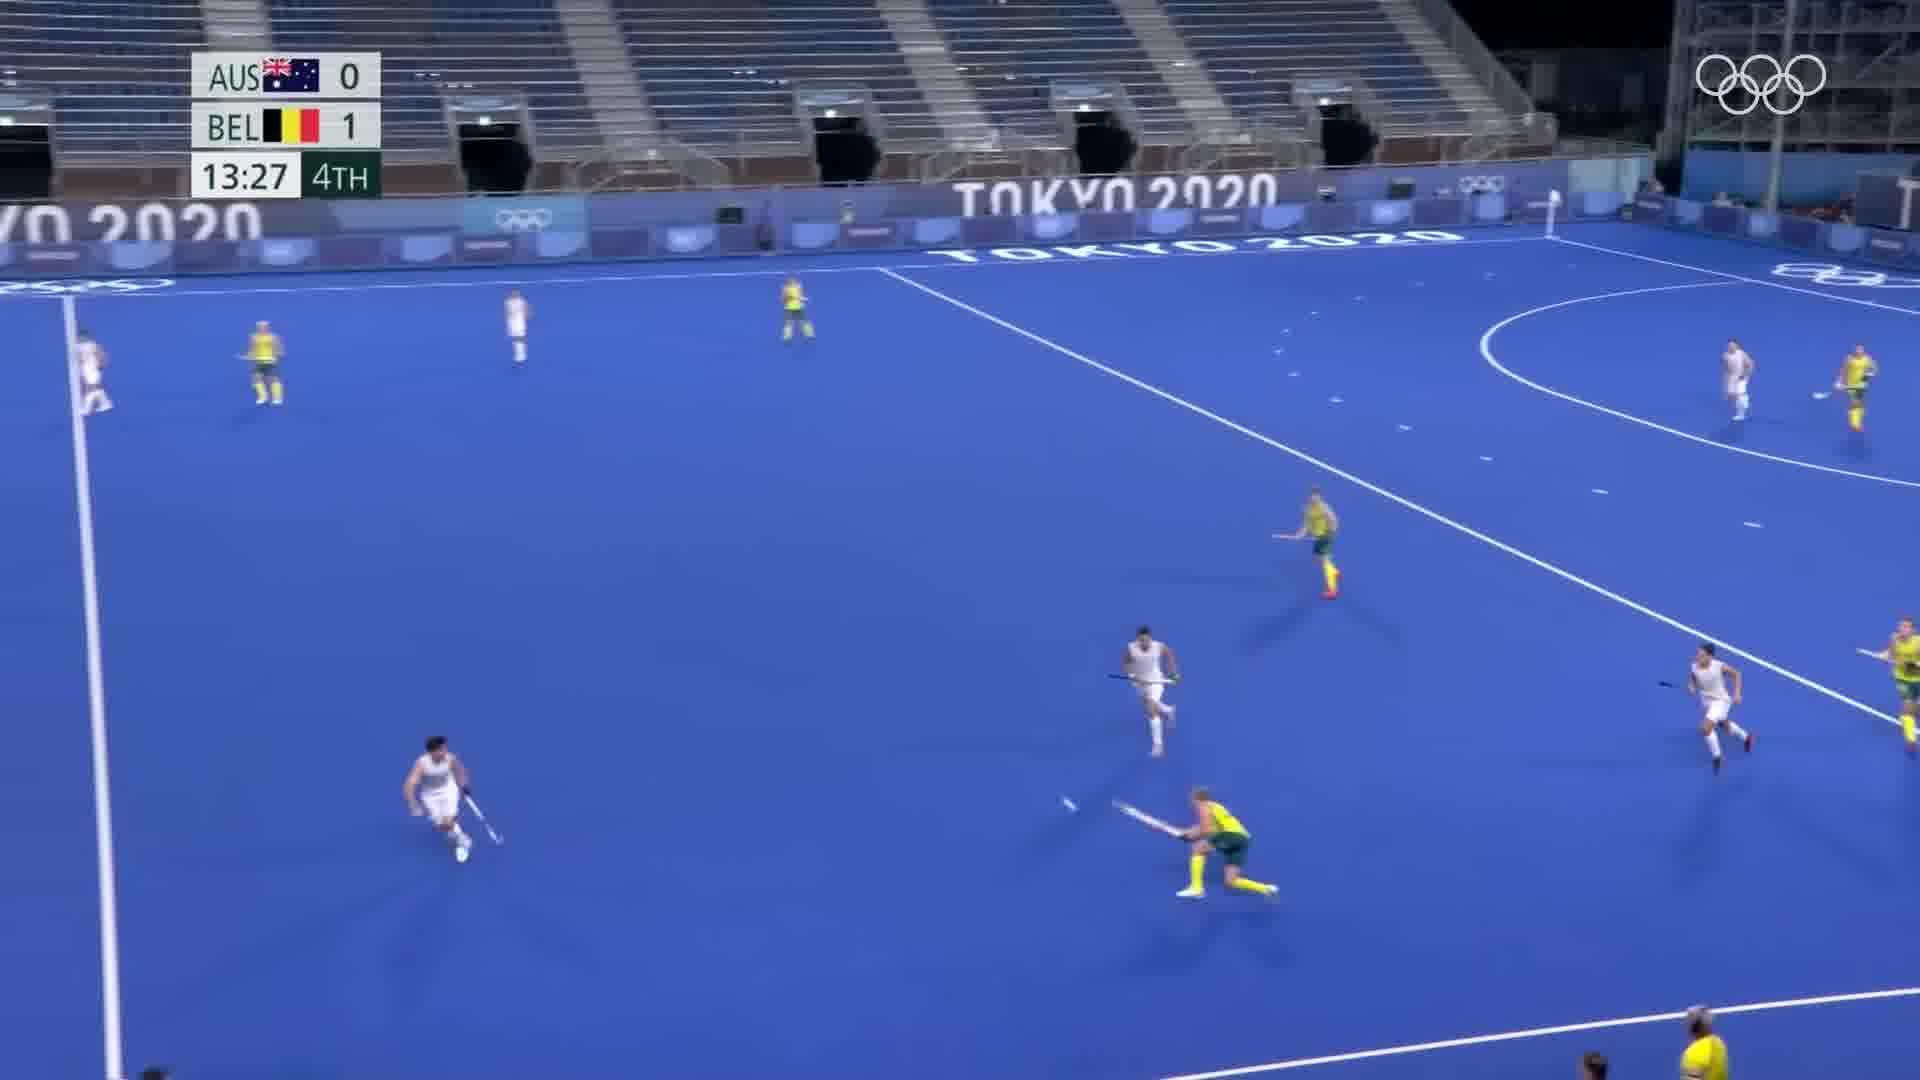ball: (1058, 787, 1088, 818)
